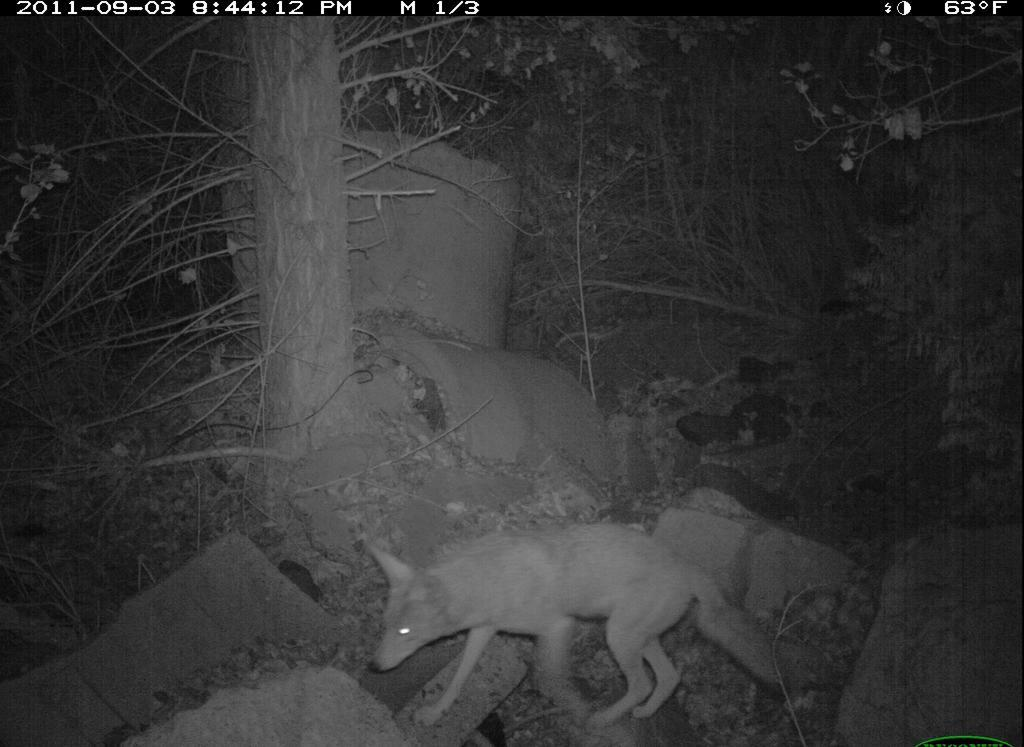coyote: (360, 523, 801, 737)
